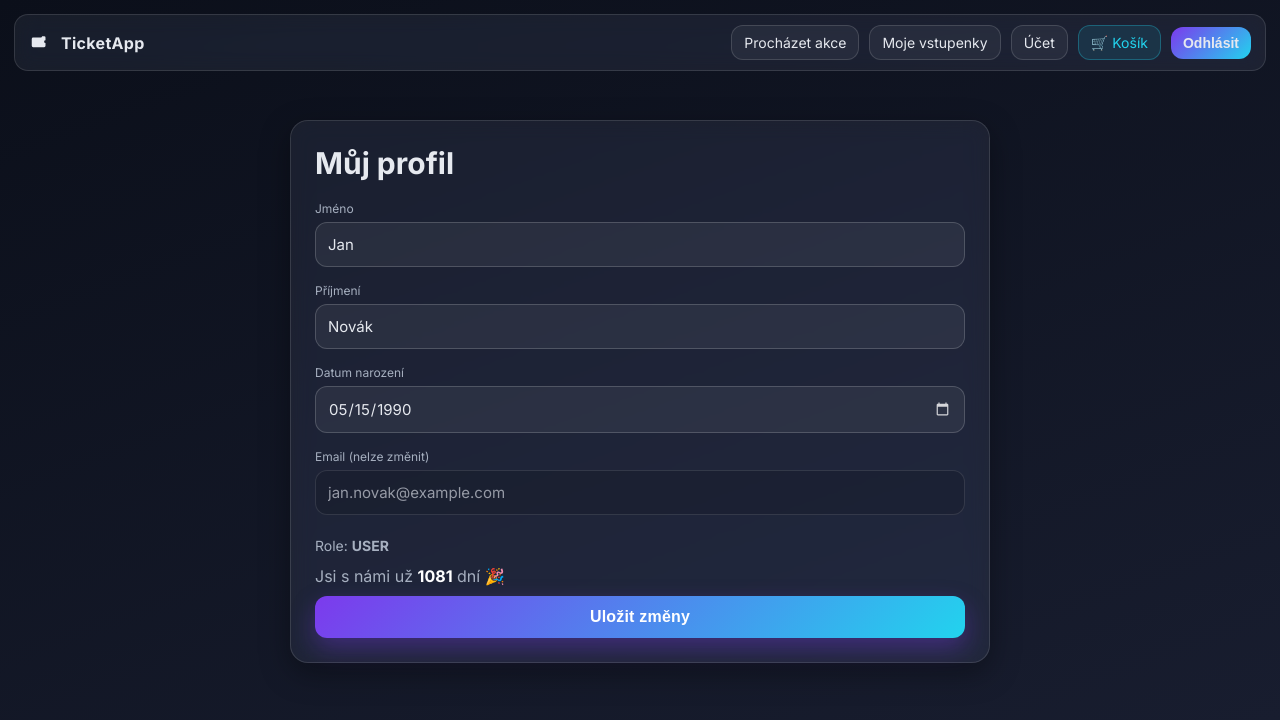
Test: Uživatelský profil a nastavení › Načtení profilu, změna jména a uložení
Expected: the 2nd field holds "Novák", [315,304,965,349]
Expected: the 3rd field holds "jan.novak@example.com", [315,470,965,515]
Replace the text in the 1st field with "Petr" at (640, 245), box [315,222,965,267]
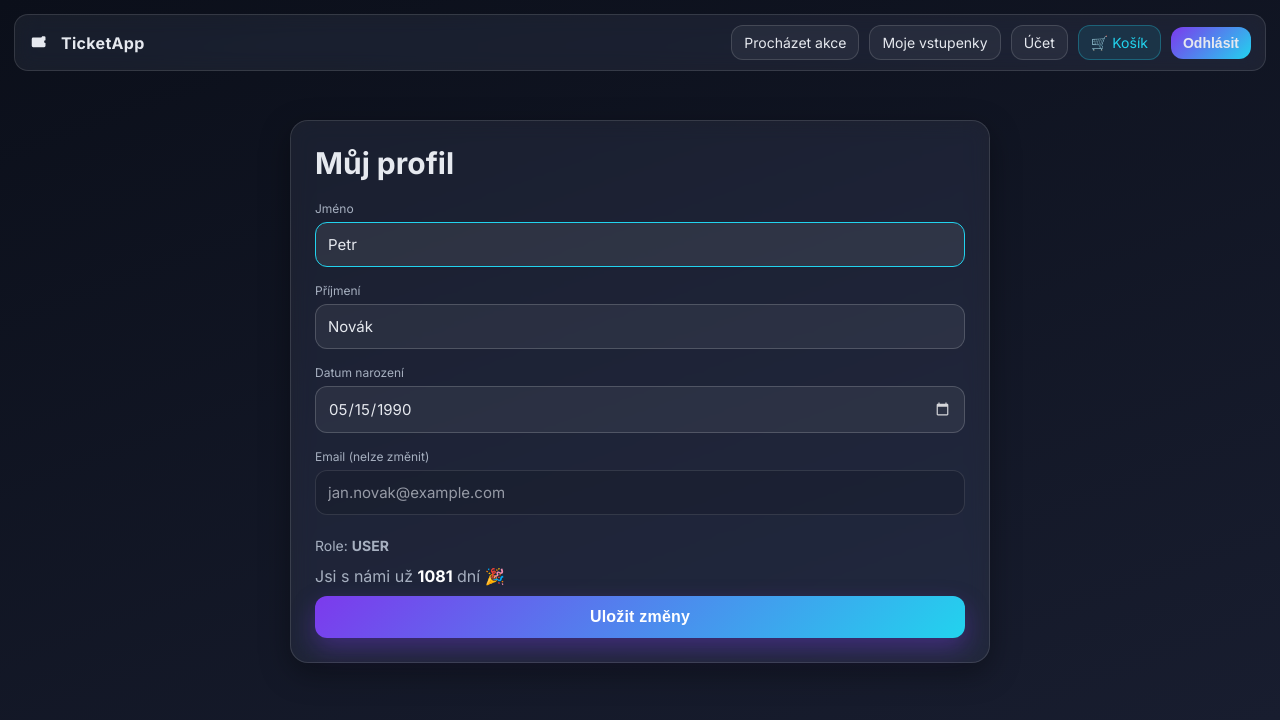
// Změníme příjmení na "Svoboda"
Replace the text in the 2nd field with "Svoboda" at (640, 327), box [315,304,965,349]
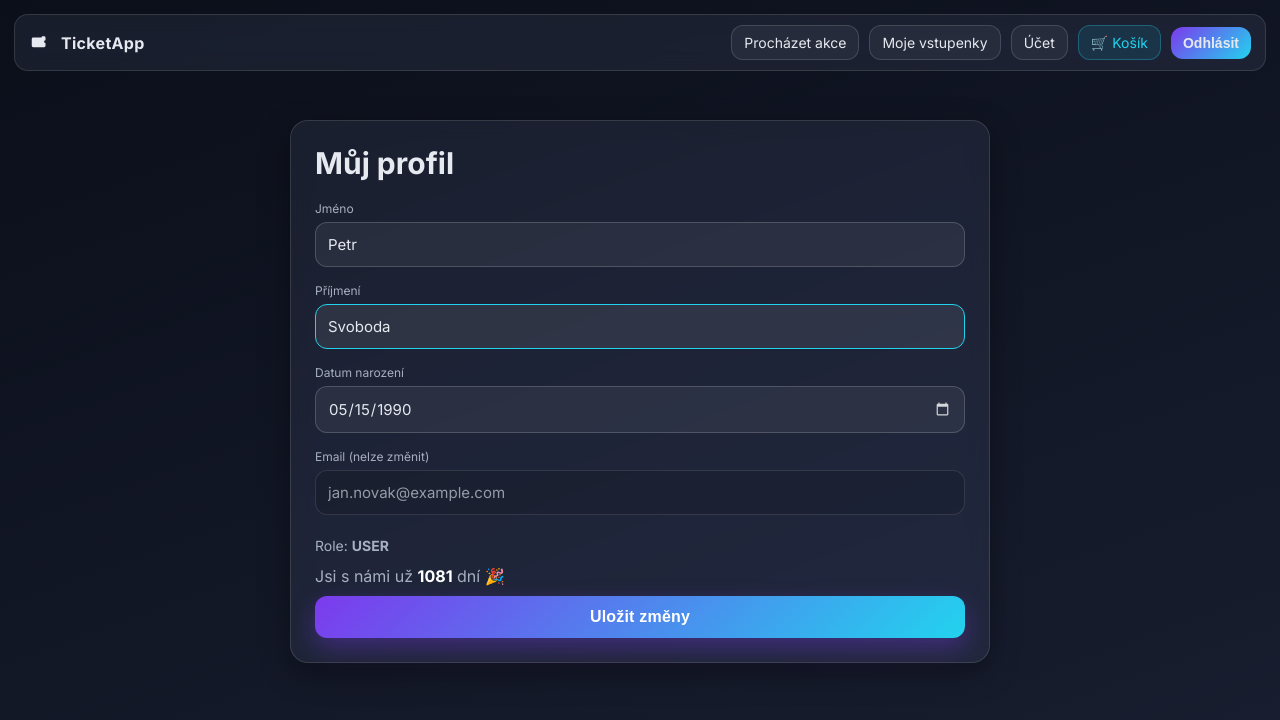
// Klikneme na tlačítko Uložit
Click the button "Uložit změny" at (640, 617), box [315,596,965,638]
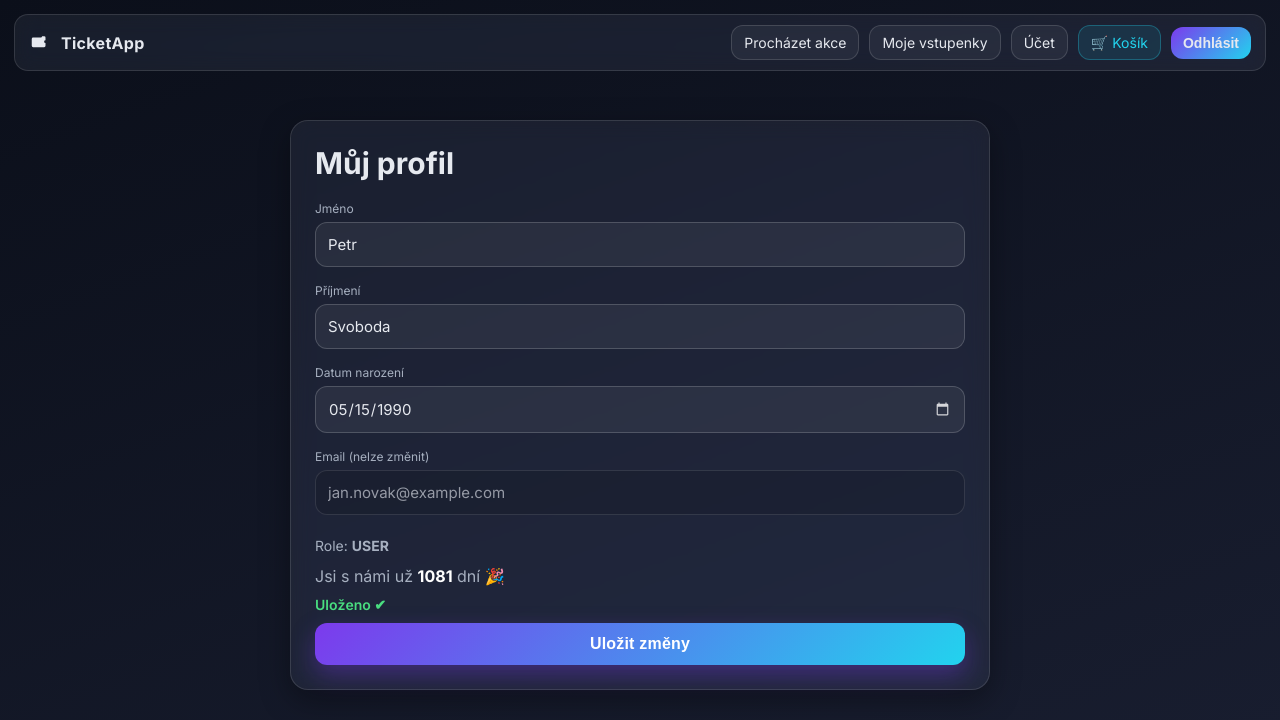
Now the text "Uloženo ✔" is shown, box [315,596,386,613]
